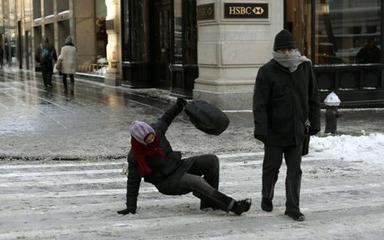Fall-Detected: (111, 89, 247, 219)
